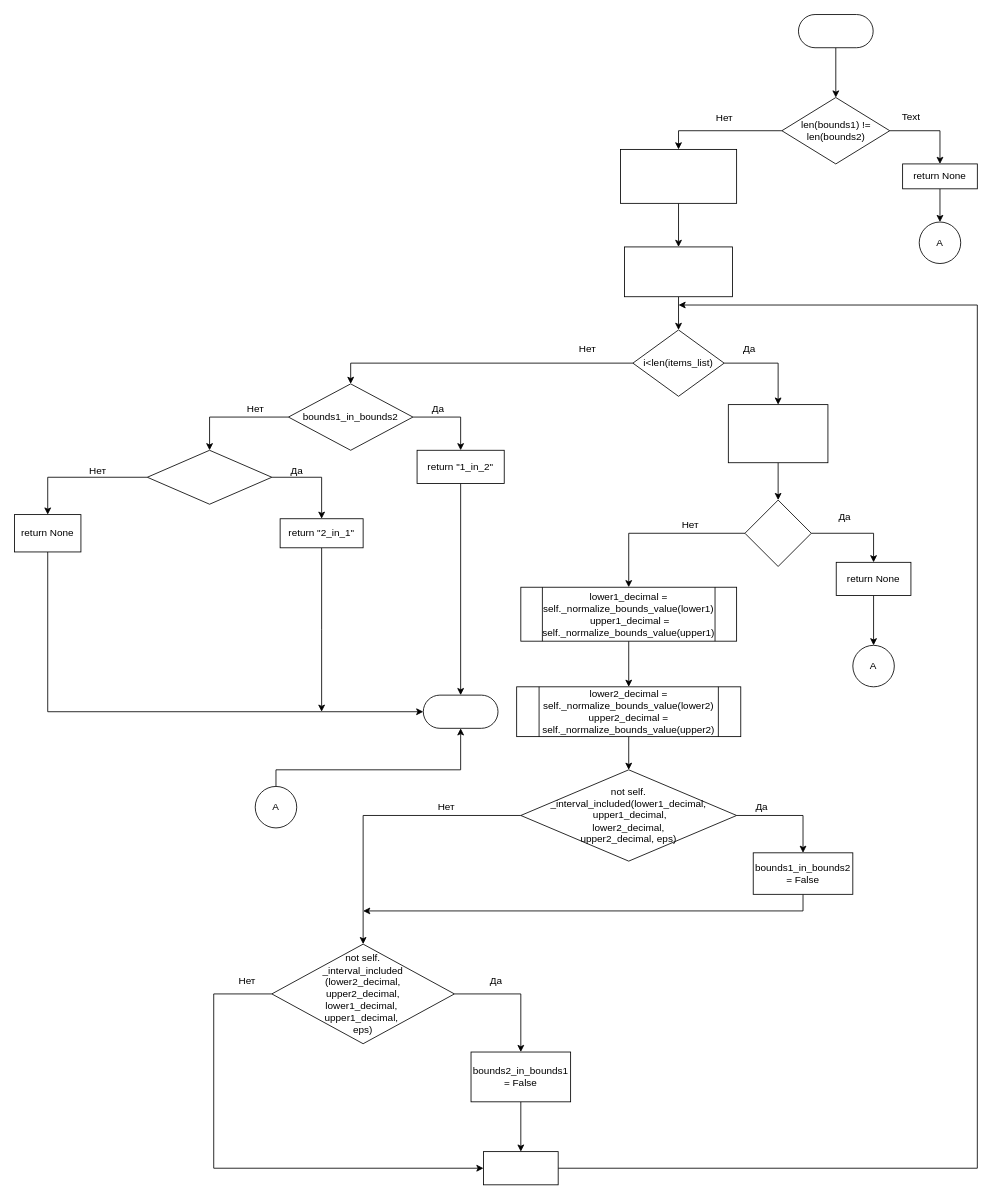
This 998x1199 diagram has some shape labels left out. The centre of each missing label's shape, as x and y in pixels:
"(elem1, (lower1, upper1)), (elem2, (lower2, upper2)) = items_list[i]" goes at point 777,433.
"begin" goes at point 835,31.
"bounds1_in_bounds2 = True bounds2_in_bounds1 = True" goes at point 678,176.
"bounds2_in_bounds1" goes at point 209,476.
"elem1 != elem2" goes at point 777,532.
"end" goes at point 460,711.
"i++" goes at point 520,1168.
"items_list = list( zip(bounds1, bounds2)) i=0" goes at point 678,271.
